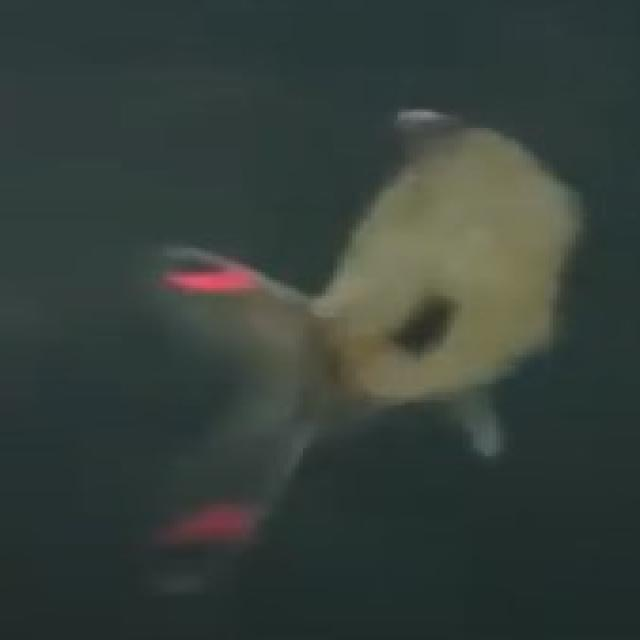Black-Spotted-Barb: (49, 81, 640, 588)
